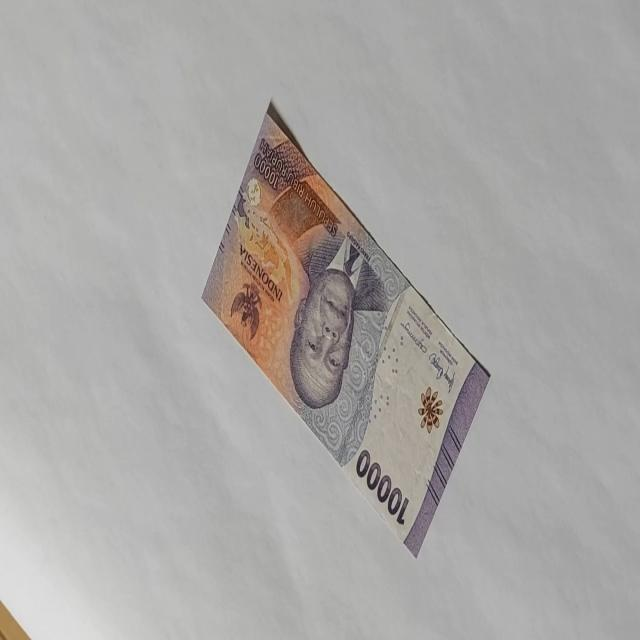sepuluh ribu rupiah: (200, 99, 492, 558), (355, 446, 410, 526)
